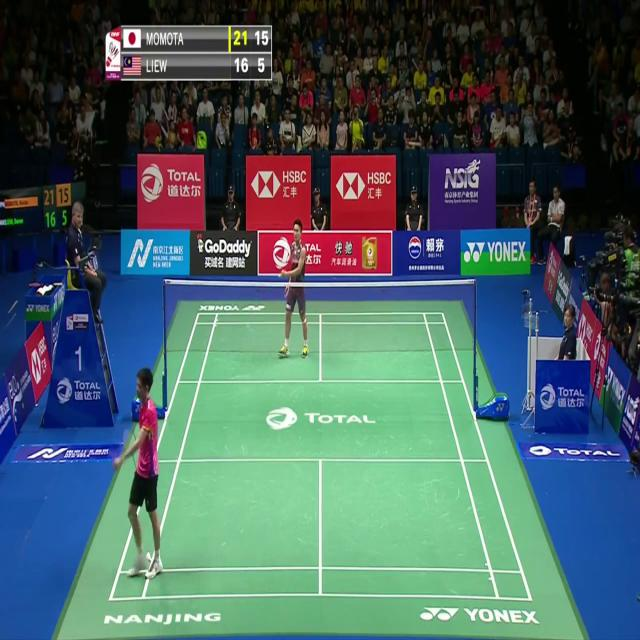Shuttlecock: (145, 550, 151, 561)
